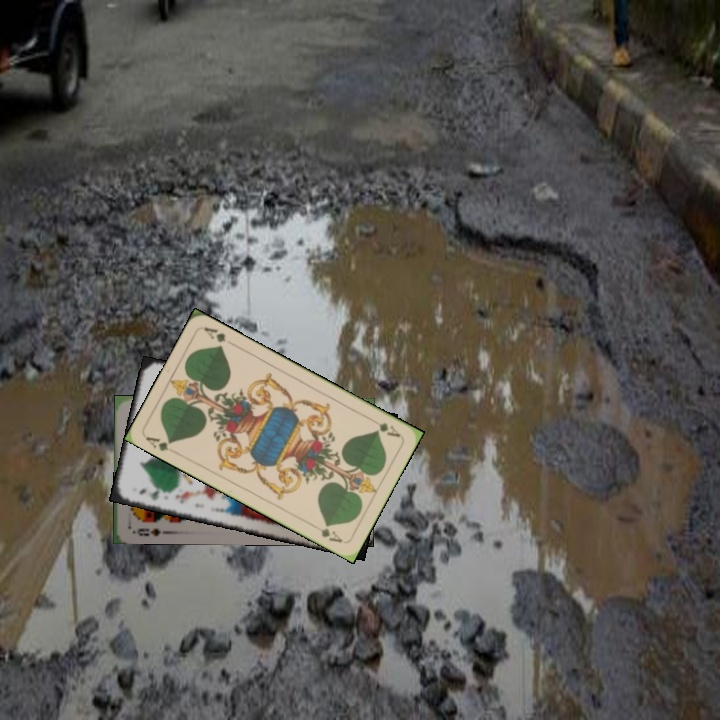GA: (141, 432, 175, 454), (372, 418, 403, 440)
GK: (135, 485, 162, 502)
S8: (133, 525, 163, 539)
